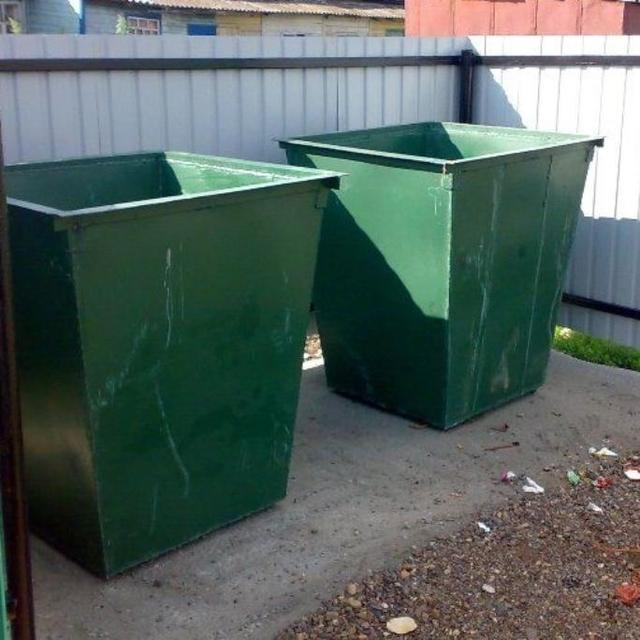Trash_Can_Empty: (8, 152, 348, 576), (280, 122, 604, 429)
